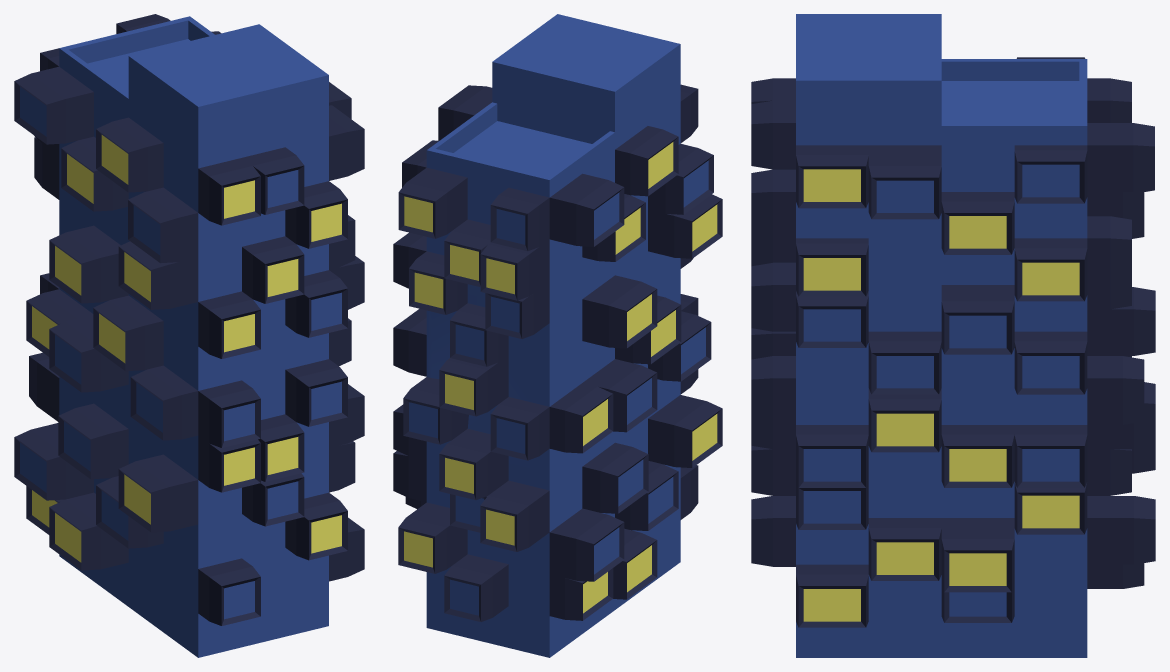
File: building2.FBX
The picture shows the model from 3 angles, left to right: view 1: azimuth 30°, elevation 25°; view 2: azimuth 150°, elevation 25°; view 3: azimuth 270°, elevation 25°; orthographic projection. The views are drawn at different scales.
Parts seen in each view (by area): view 1: Box002; view 2: Box002; view 3: Box002.
Boxes of the visible parts, <box> form: Box002: <box>14,14,364,657</box>; Box002: <box>393,14,722,657</box>; Box002: <box>751,14,1155,657</box>.
Size of the model in its own units: 107 by 240 by 152.
